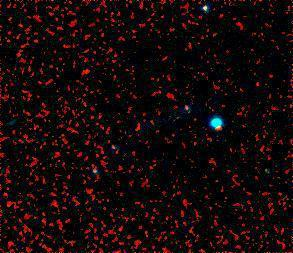star: (71, 57, 101, 87)
